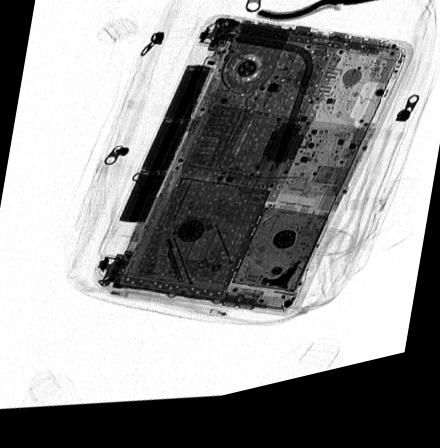Pliers: (253, 0, 403, 35)
